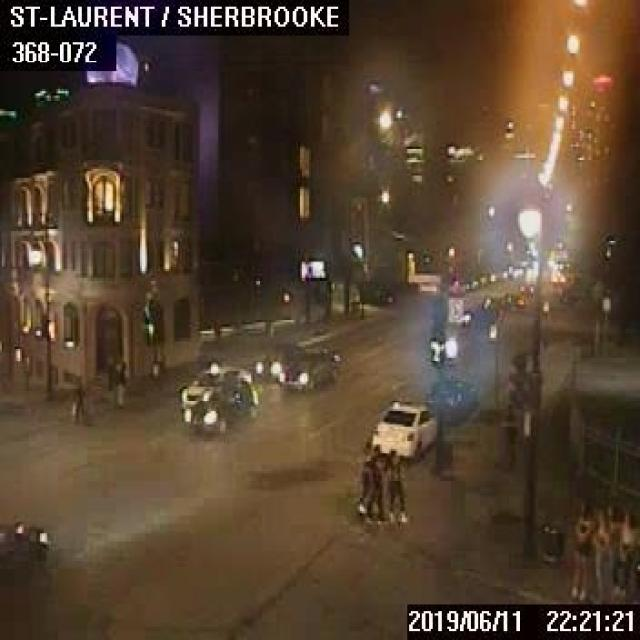pedestrian: (610, 508, 638, 597), (570, 495, 594, 598), (594, 503, 615, 596), (362, 442, 384, 522), (385, 446, 405, 524), (355, 439, 374, 513), (113, 358, 127, 407), (71, 378, 85, 420)
vehicle: (182, 376, 256, 431), (371, 398, 434, 458), (178, 360, 250, 410), (0, 516, 49, 574), (277, 348, 338, 390), (424, 374, 476, 421), (425, 323, 475, 363), (252, 341, 302, 379), (461, 298, 500, 340)
